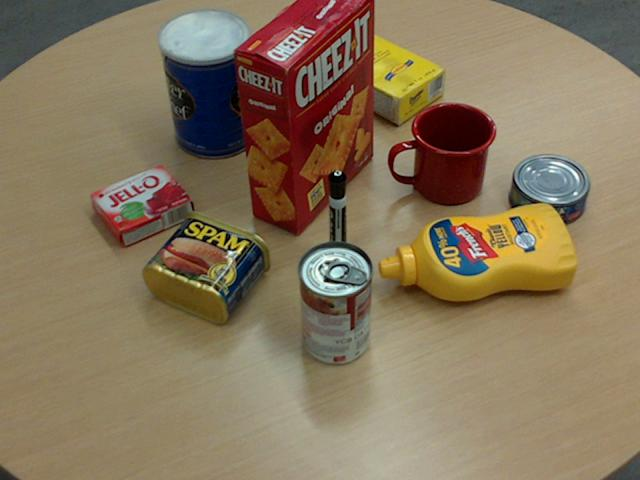cracker_box: (232, 0, 374, 233)
gelatin_box: (89, 163, 192, 245)
large_marker: (327, 171, 347, 265)
master_chef_can: (158, 8, 257, 158)
mug: (389, 101, 495, 203)
mustard_bottle: (377, 202, 576, 300)
potted_meat_can: (141, 209, 270, 322)
sugar_box: (296, 18, 445, 124)
tomato_soup_can: (296, 240, 371, 364)
tuna_fish_can: (508, 153, 588, 225)
